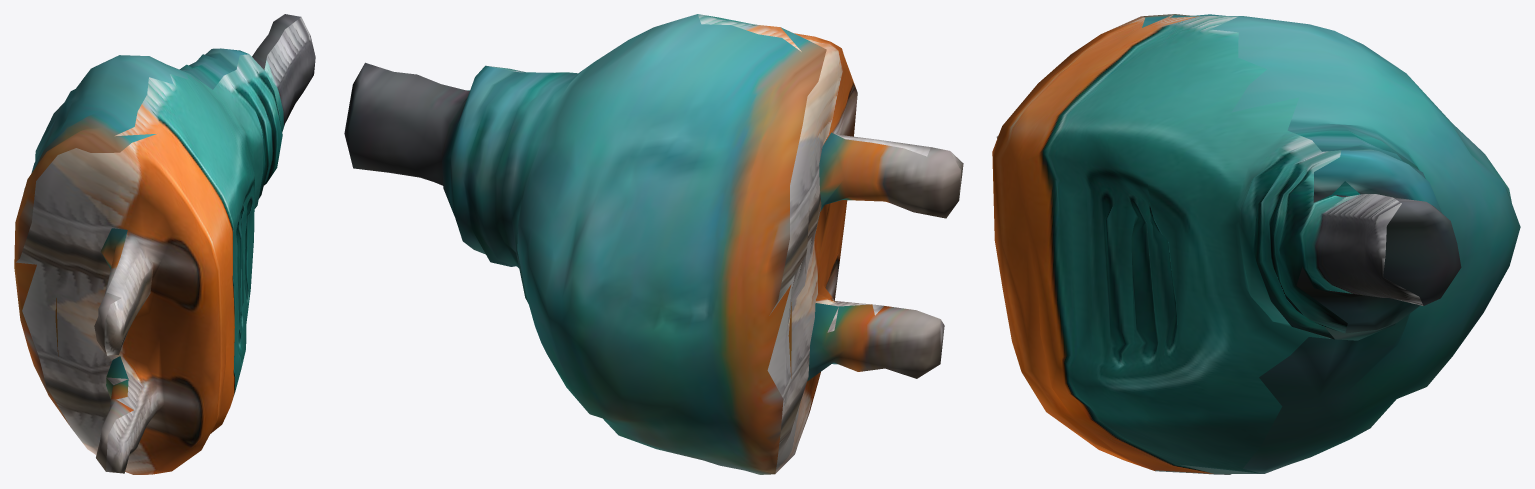
File: plug.glb
3 views of the same model, side by side, from view 1: azimuth 30°, elevation 25°; view 2: azimuth 150°, elevation 25°; view 3: azimuth 270°, elevation 25° (orthographic). The views are drawn at different scales.
Visible parts, largest first — view 1: plug; view 2: plug; view 3: plug.
Boxes of the visible parts, x1,y1,x2,y2 form: plug: (14,14,315,474); plug: (344,14,963,474); plug: (992,14,1520,474).
Bounding box in the file's own units: 1 × 1 × 1.
2 materials, 2 textured.
